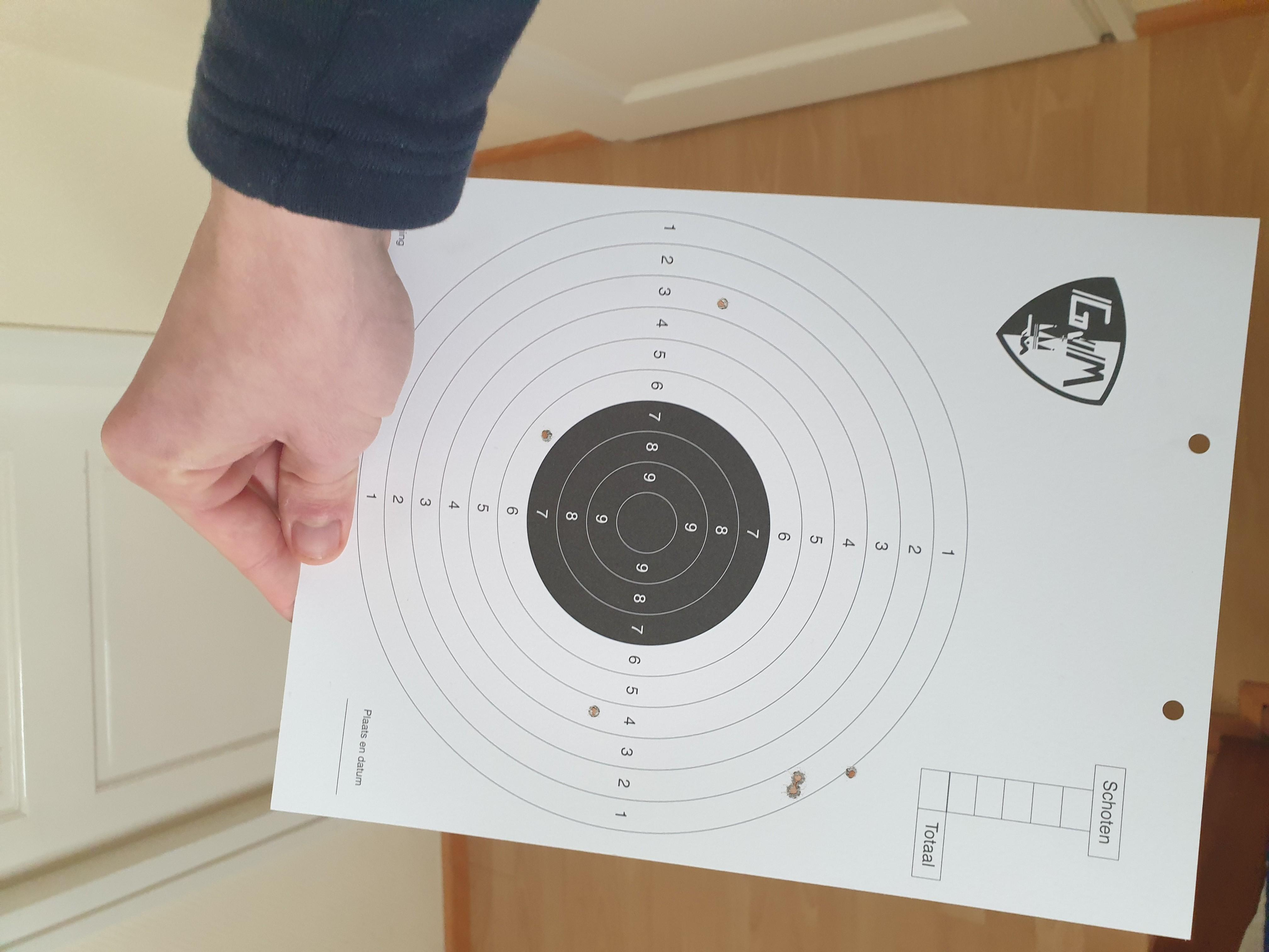hole: (790, 770, 806, 785), (785, 784, 801, 799), (587, 704, 601, 718), (716, 296, 729, 310), (540, 428, 553, 442), (844, 766, 857, 778)
